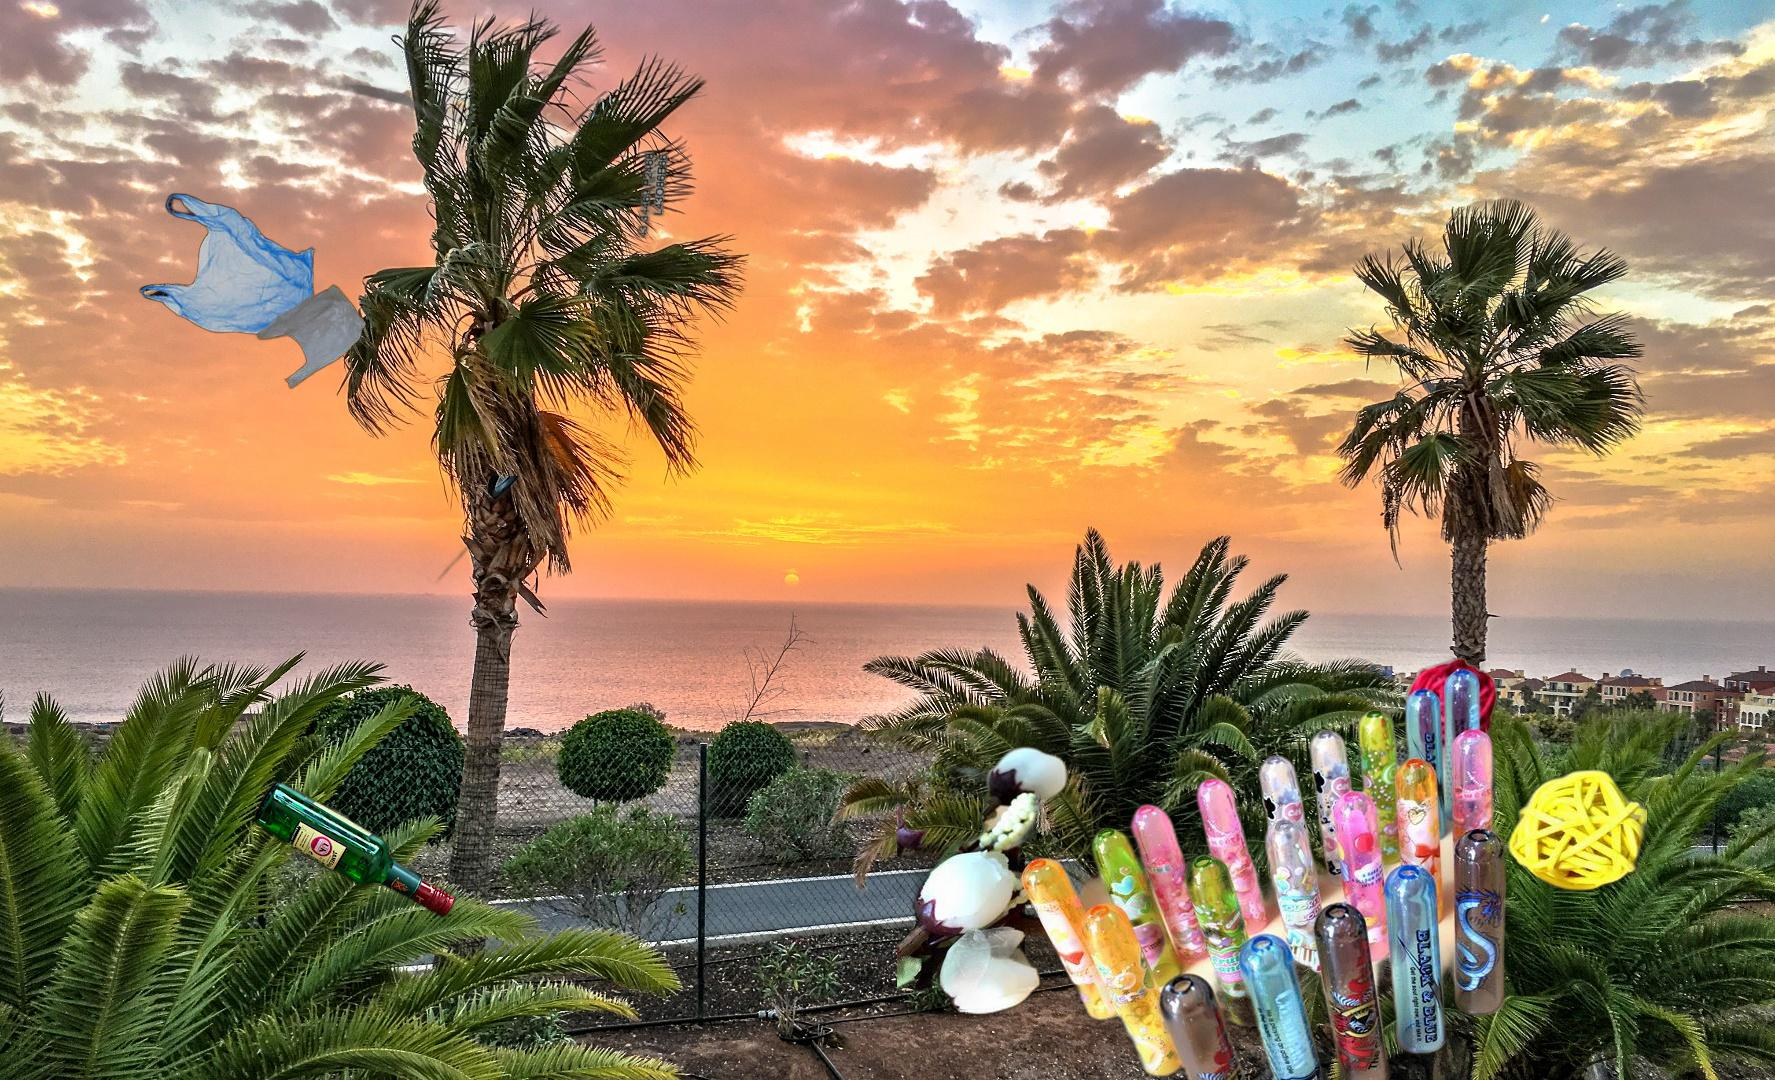glass: (250, 477, 524, 923)
paper: (276, 65, 789, 297)
penholder: (896, 652, 1647, 1080)
plastic-bag: (136, 190, 369, 390)
